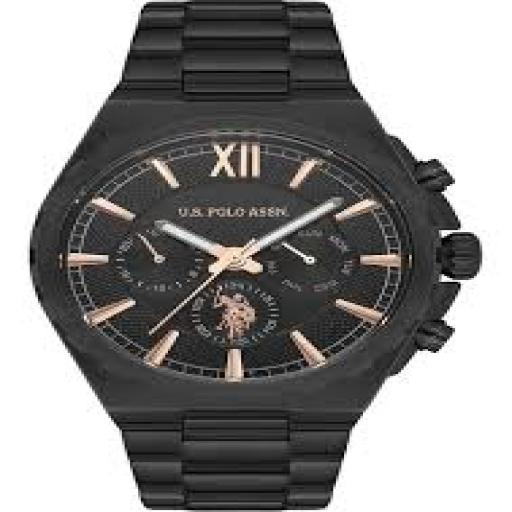KolSaati: (15, 1, 486, 512)
